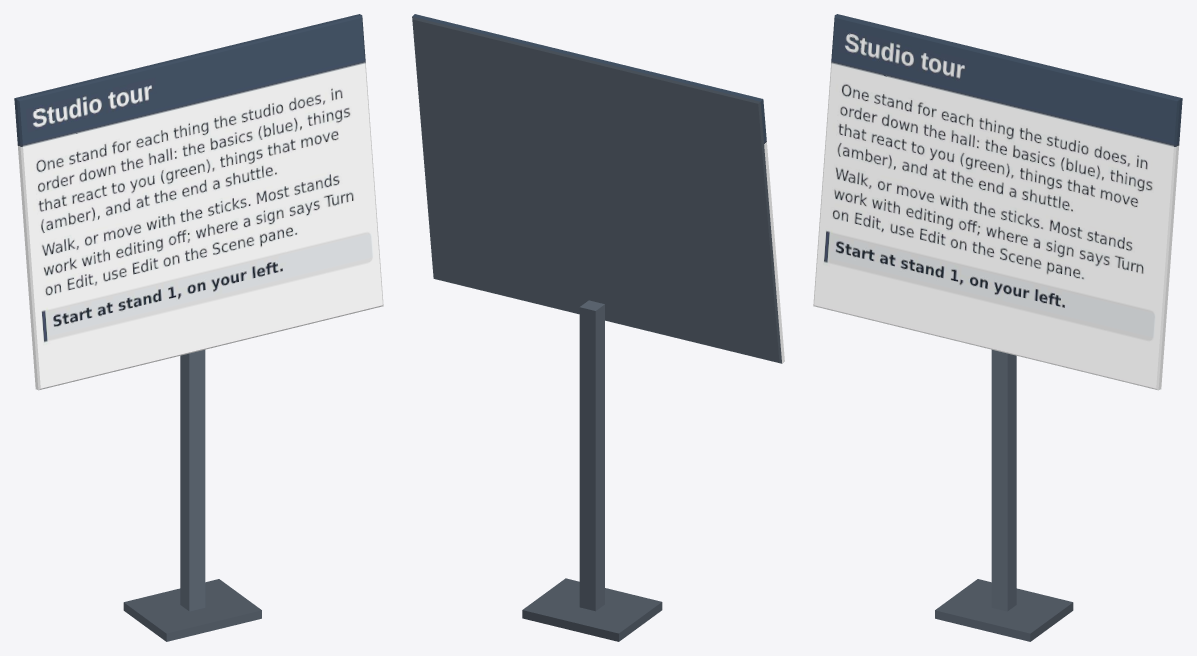
The model's file is 00-welcome.glb.
3 renders of one model, left to right at view 1: azimuth 30°, elevation 25°; view 2: azimuth 150°, elevation 25°; view 3: azimuth 330°, elevation 25°, orthographic.
Visible parts, largest first — view 1: board; view 2: board; view 3: board.
Boxes of the visible parts, <box> form: board: <box>14,14,383,641</box>; board: <box>412,14,784,641</box>; board: <box>813,14,1182,641</box>.
Size of the model in its own units: 1.3 by 2 by 0.28.
Materials: 1 (1 with a texture image).
